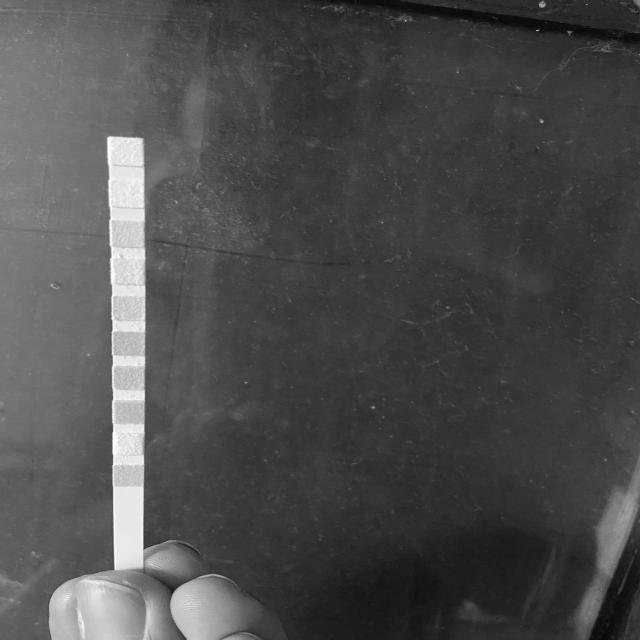Bilirubin: (113, 432, 145, 456)
Blood: (112, 332, 146, 356)
Glucose: (112, 465, 144, 486)
Ketone: (112, 400, 144, 424)
Leukocytes: (109, 138, 143, 164)
Nitrite: (110, 180, 145, 207)
Protein: (110, 259, 145, 284)
SpGravity: (112, 366, 146, 390)
Urobilinogen: (110, 221, 144, 247)
background: (0, 0, 640, 640)
pH: (112, 297, 146, 320)
strip: (108, 137, 144, 568)
